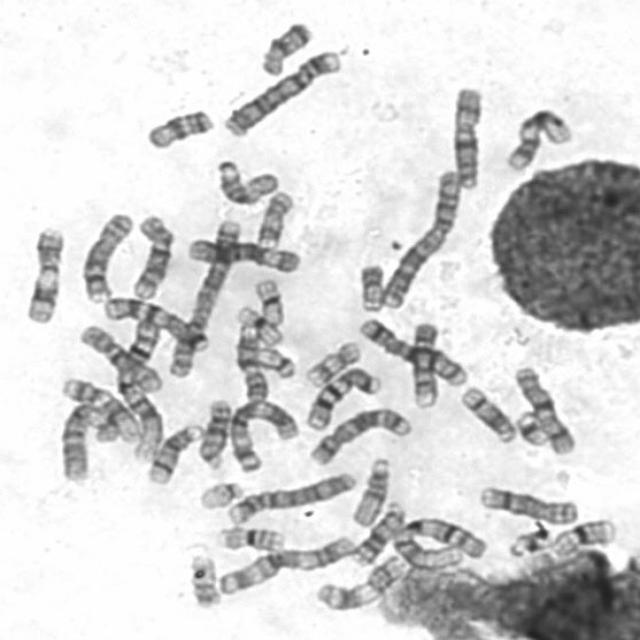A1: (112, 311, 166, 461), (386, 512, 490, 568)
A2: (162, 213, 244, 380), (375, 165, 464, 312)
A3: (212, 530, 358, 596), (223, 394, 301, 474)
B4: (216, 44, 345, 140), (222, 466, 358, 526)
B5: (353, 312, 470, 389), (303, 402, 414, 468)
C10: (72, 318, 166, 395), (125, 209, 177, 301)
C11: (309, 549, 407, 613), (18, 221, 67, 326)
C12: (55, 371, 143, 444), (500, 102, 574, 174)
C6: (54, 396, 120, 484), (182, 232, 304, 275)
C7: (98, 292, 212, 354), (300, 361, 383, 432)
C8: (74, 207, 136, 304), (474, 481, 580, 526)
C9: (404, 318, 442, 410), (230, 321, 271, 403)
D13: (346, 495, 408, 568), (193, 394, 233, 470)
D14: (142, 419, 204, 485), (455, 382, 518, 444)
D15: (210, 154, 280, 208), (346, 452, 393, 528)
E16: (547, 513, 618, 557), (213, 520, 287, 553)
E17: (299, 335, 363, 389), (250, 186, 296, 248)
E18: (254, 16, 314, 78), (140, 103, 215, 151)
F19: (231, 300, 285, 347), (246, 274, 286, 329)
F20: (183, 550, 223, 610), (351, 262, 386, 312)
G21: (510, 405, 550, 449), (507, 528, 558, 562)
G22: (249, 341, 299, 381), (193, 476, 246, 511)
X: (508, 361, 579, 456), (446, 80, 486, 191)
